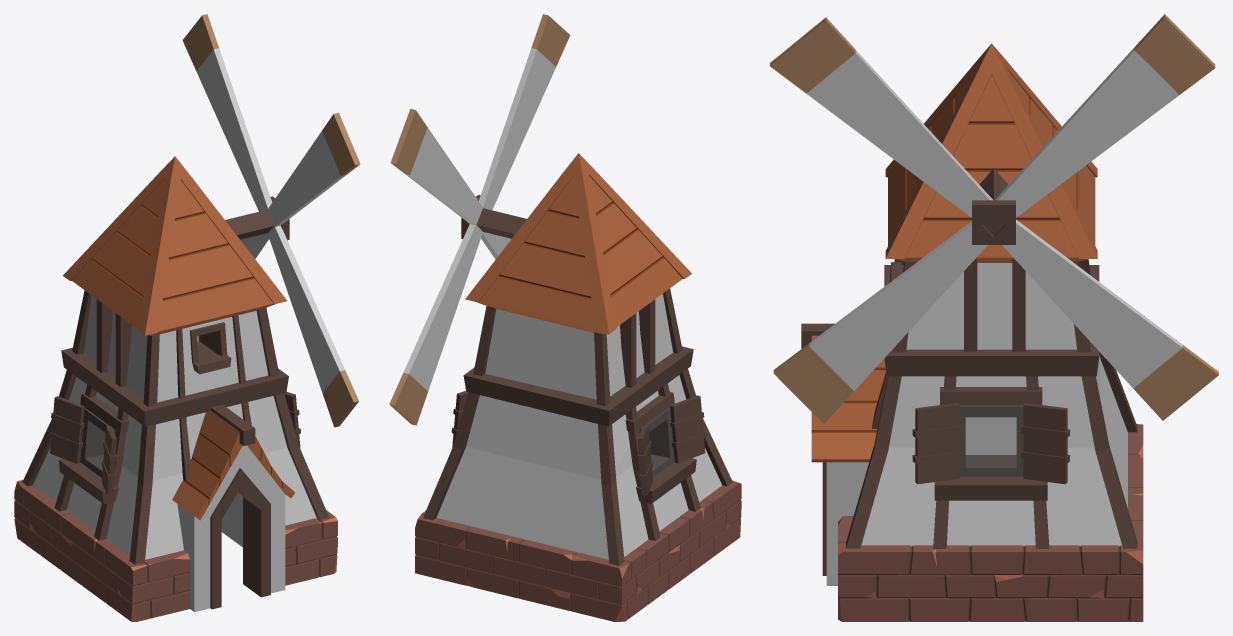
File: Windmill.fbx
3 views of the same model, side by side, from view 1: azimuth 30°, elevation 25°; view 2: azimuth 150°, elevation 25°; view 3: azimuth 270°, elevation 25° (orthographic). The views are drawn at different scales.
Parts seen in each view (by area): view 1: Windmill; view 2: Windmill; view 3: Windmill.
Part boxes in pixels (bbox=[...]): Windmill: bbox=[14, 14, 360, 621]; Windmill: bbox=[389, 14, 741, 621]; Windmill: bbox=[770, 14, 1218, 621].
Bounding box in the file's own units: 122 × 261 × 176.
